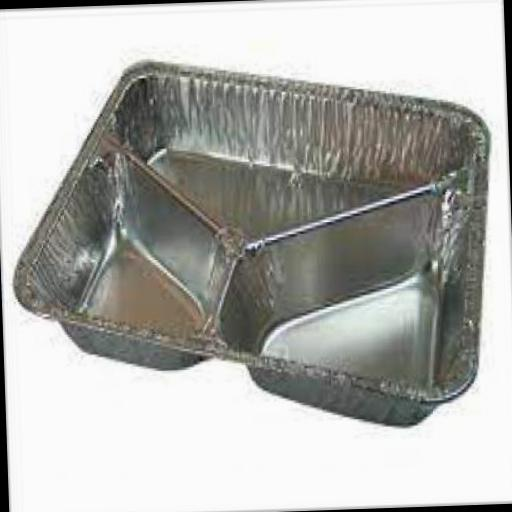metal: (0, 44, 498, 438)
